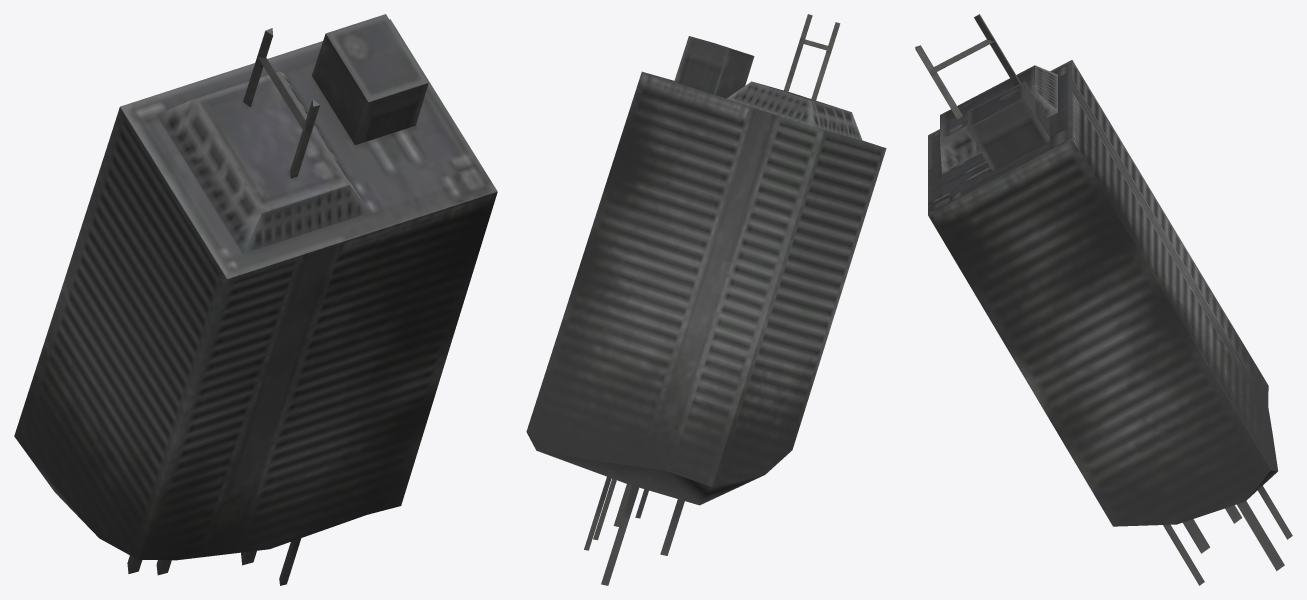
The model's file is skyBuildingAAC_pos_grp (35).fbx.
3 renders of one model, left to right at view 1: azimuth 30°, elevation 25°; view 2: azimuth 150°, elevation 25°; view 3: azimuth 270°, elevation 25°, orthographic. The views are drawn at different scales.
Visible parts, largest first — view 1: skyBuildingAAC_geo; view 2: skyBuildingAAC_geo; view 3: skyBuildingAAC_geo.
Part boxes in pixels (x1,y1,x2,y2): skyBuildingAAC_geo: [14, 14, 497, 585]; skyBuildingAAC_geo: [526, 14, 886, 585]; skyBuildingAAC_geo: [915, 14, 1292, 585].
Size of the model in its own units: 4.17 by 9.27 by 6.1.
